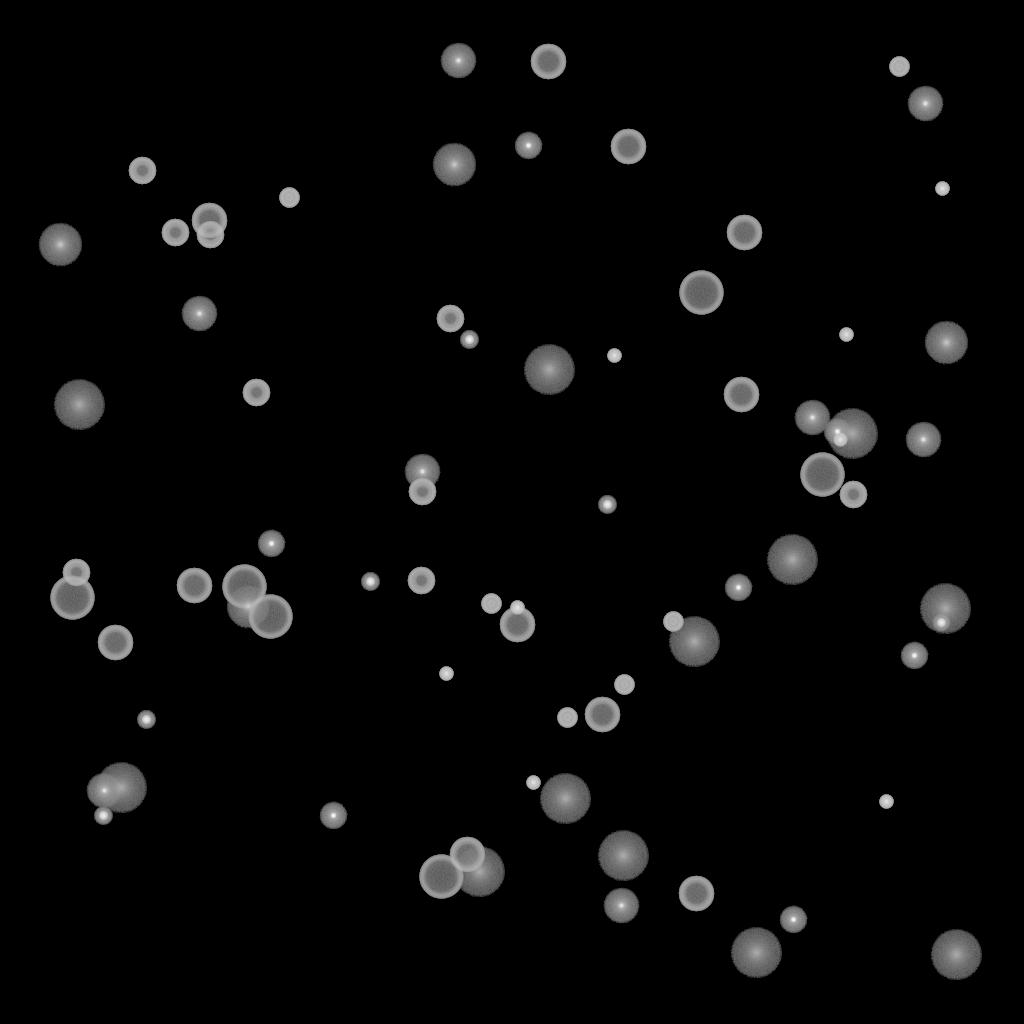depth:-10: (724, 574, 752, 602), (319, 802, 347, 830), (779, 906, 807, 934), (900, 642, 928, 670), (823, 418, 851, 446), (257, 530, 285, 558), (514, 132, 542, 160)
depth:-20: (932, 614, 950, 632), (137, 711, 155, 729), (460, 331, 478, 349), (94, 807, 112, 825), (598, 496, 616, 514), (361, 573, 379, 591)
depth:-30: (439, 667, 453, 681), (607, 349, 621, 363), (833, 433, 847, 447), (526, 776, 540, 790), (510, 601, 524, 615), (879, 795, 893, 809), (839, 328, 853, 342), (935, 182, 949, 196)
depth:-40: (889, 57, 909, 77), (557, 708, 577, 728), (481, 594, 501, 614), (614, 675, 634, 695), (279, 188, 299, 208), (663, 612, 683, 632)
depth:-50: (128, 157, 156, 185), (161, 219, 189, 247), (242, 379, 270, 407), (408, 478, 436, 506), (62, 559, 90, 587), (839, 481, 867, 509), (407, 567, 435, 595), (436, 305, 464, 333), (196, 221, 224, 249)
depth:-60: (610, 129, 646, 165), (726, 215, 762, 251), (191, 203, 227, 239), (723, 377, 759, 413), (584, 697, 620, 733), (678, 876, 714, 912), (176, 568, 212, 604), (530, 44, 566, 80), (449, 837, 485, 873), (97, 625, 133, 661), (499, 607, 535, 643)
depth:-70: (800, 453, 844, 497), (679, 271, 723, 315), (50, 576, 94, 620), (419, 855, 463, 899), (248, 595, 292, 639), (222, 565, 266, 609)
depth:0: (86, 773, 122, 809), (603, 888, 639, 924), (440, 43, 476, 79), (794, 400, 830, 436), (905, 422, 941, 458), (907, 86, 943, 122), (404, 454, 440, 490), (181, 296, 217, 332)
depth:10: (226, 585, 270, 629), (924, 321, 968, 365), (432, 143, 476, 187), (38, 223, 82, 267)
depth:20: (597, 831, 649, 881), (766, 535, 818, 585), (95, 763, 147, 813), (453, 847, 505, 897), (826, 409, 878, 459), (919, 584, 971, 634), (930, 930, 982, 980), (730, 928, 782, 978), (668, 617, 720, 667), (523, 345, 575, 395), (53, 380, 105, 430), (539, 774, 591, 824)
